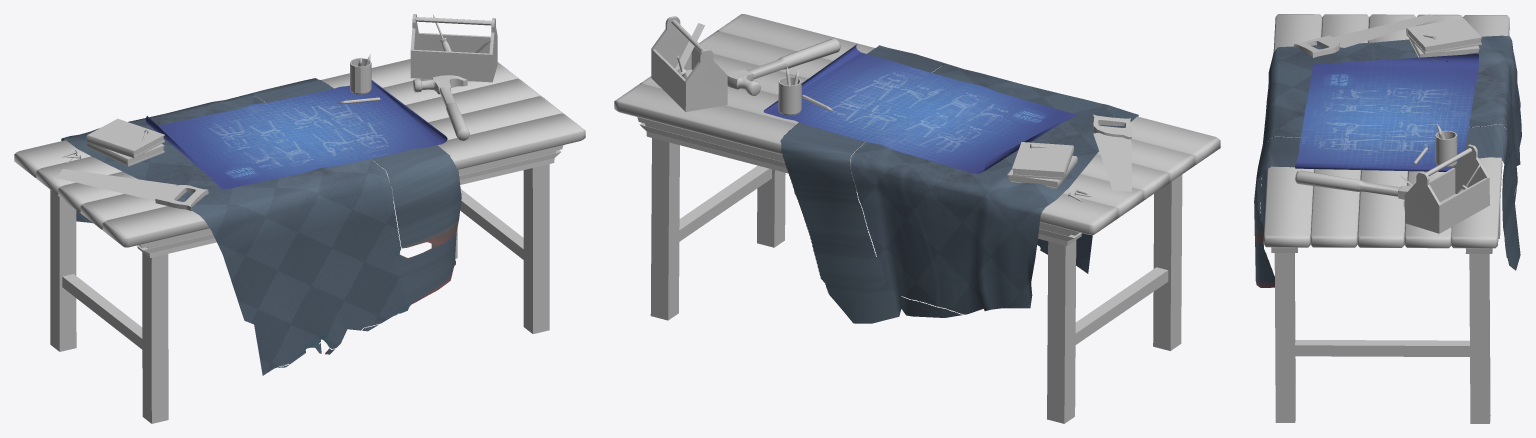
Rendered from CraftingTable.fbx.
3 views of the same model, side by side, from view 1: azimuth 30°, elevation 25°; view 2: azimuth 150°, elevation 25°; view 3: azimuth 270°, elevation 25° (orthographic). The views are drawn at different scales.
Visible parts, largest first — view 1: GeometryNode_49_1; view 2: GeometryNode_49_1; view 3: GeometryNode_49_1.
Part boxes in pixels (x1,y1,x2,y2): GeometryNode_49_1: [14, 14, 585, 423]; GeometryNode_49_1: [614, 14, 1220, 423]; GeometryNode_49_1: [1254, 14, 1521, 423].
Bounding box in the file's own units: 1086 × 575 × 547.
